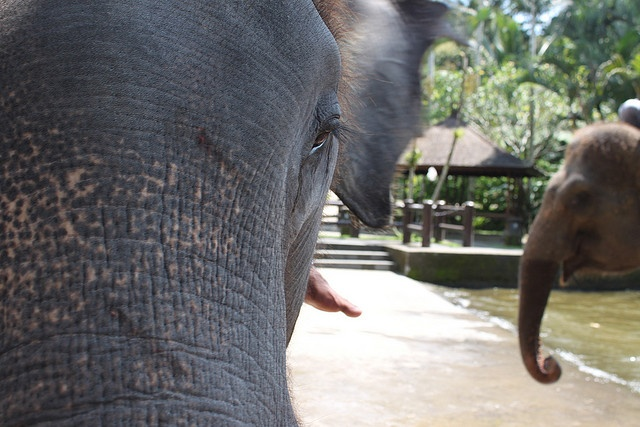elephant: (0, 1, 456, 427), (516, 117, 640, 386)
